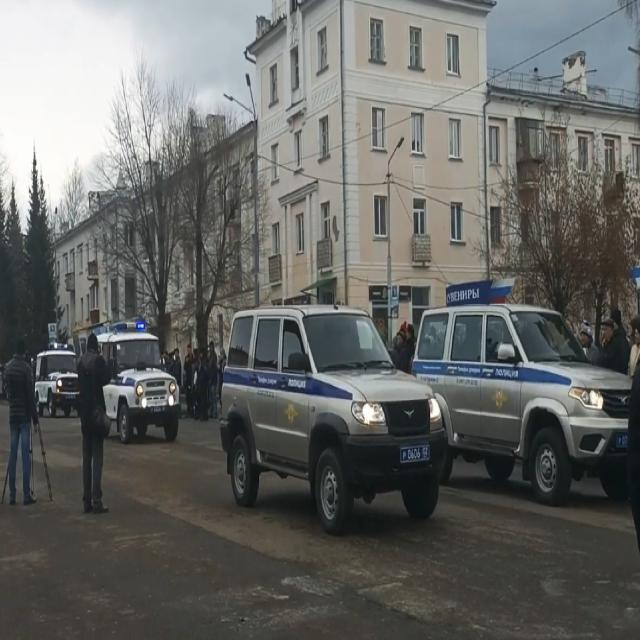police car: (221, 305, 449, 542), (413, 305, 632, 502), (97, 316, 178, 448), (34, 342, 82, 421)
